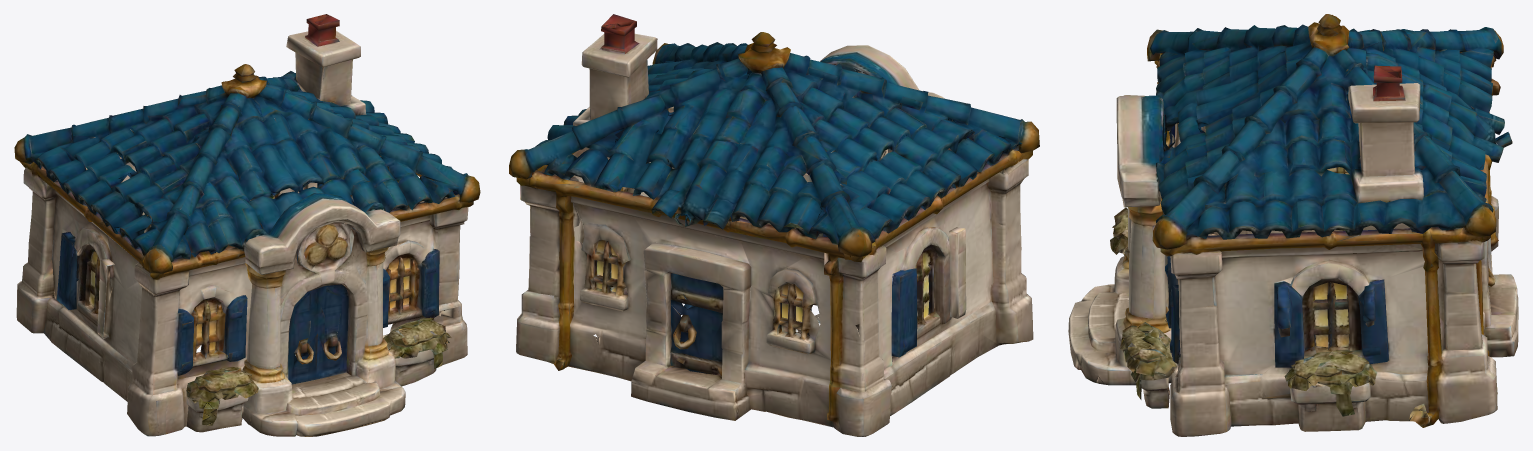
The picture shows the model from 3 angles, left to right: view 1: azimuth 30°, elevation 25°; view 2: azimuth 150°, elevation 25°; view 3: azimuth 270°, elevation 25°; orthographic projection. The views are drawn at different scales.
Parts seen in each view (by area): view 1: harbor__vault_bank__native_mobile; view 2: harbor__vault_bank__native_mobile; view 3: harbor__vault_bank__native_mobile.
Boxes of the visible parts, left/top/right/bottom form: harbor__vault_bank__native_mobile: left=14, top=14, right=480, bottom=436; harbor__vault_bank__native_mobile: left=509, top=14, right=1039, bottom=436; harbor__vault_bank__native_mobile: left=1068, top=14, right=1518, bottom=436.
Bounding box in the file's own units: 1 × 0.801 × 0.958.
1 material, 1 textured.
